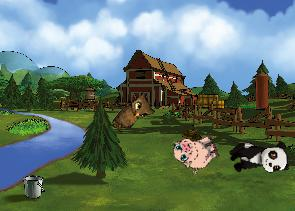owl: (109, 88, 160, 142)
panda: (228, 140, 289, 175)
pig: (169, 125, 223, 177)
